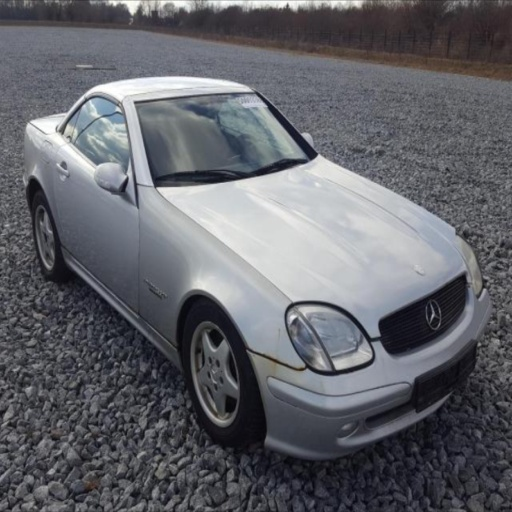rust: (247, 348, 306, 374), (202, 390, 217, 418)
scratch: (278, 327, 280, 339)
